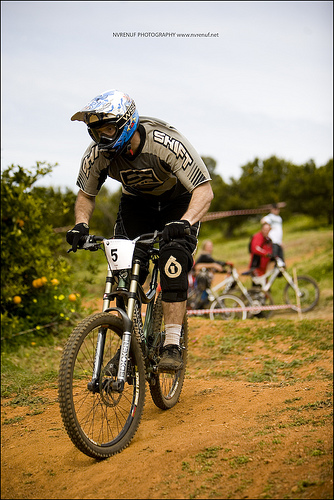helmet: (72, 97, 133, 139)
